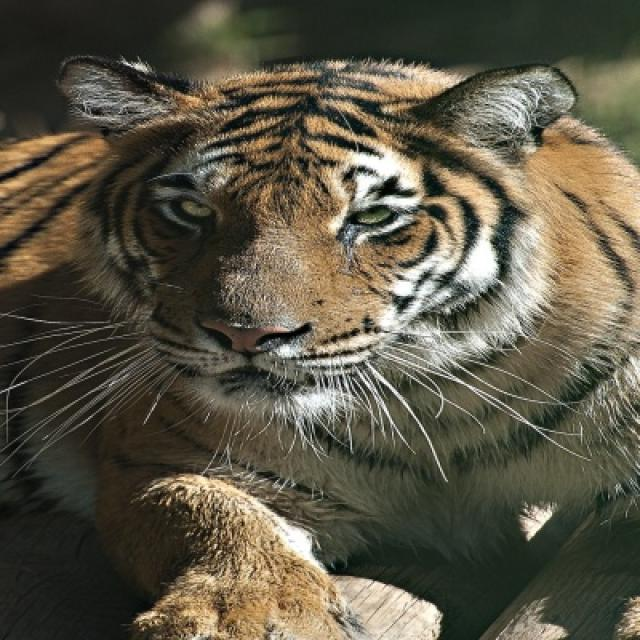Tiger: (80, 82, 565, 456)
